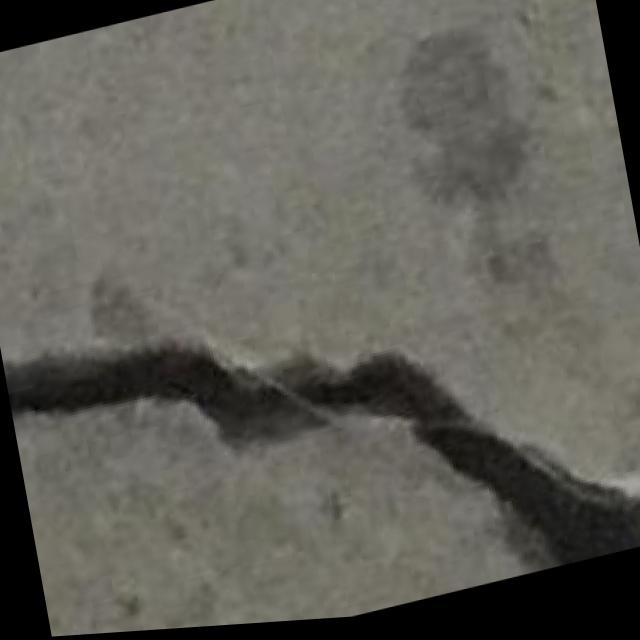Crack: (5, 218, 640, 640)
